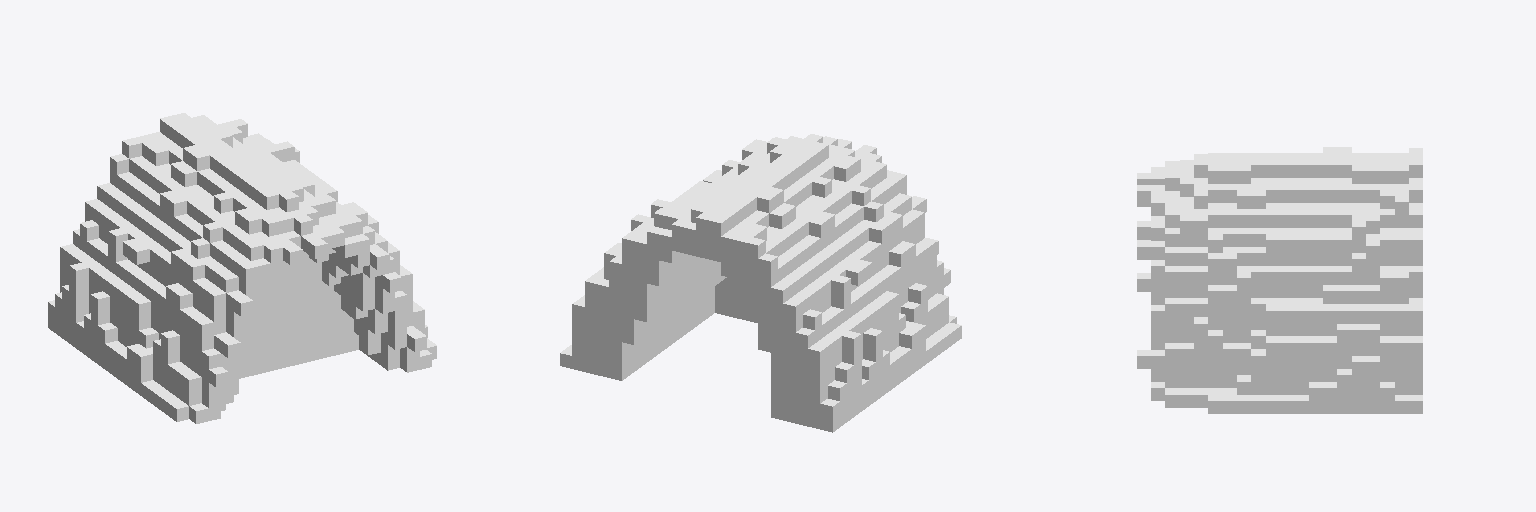
The model's file is Cave.obj.
The picture shows the model from 3 angles: view 1: azimuth 30°, elevation 25°; view 2: azimuth 150°, elevation 25°; view 3: azimuth 270°, elevation 25°; orthographic projection.
Visible parts, largest first — view 1: Cave; view 2: Cave; view 3: Cave.
Boxes of the visible parts, <box> form: Cave: <box>48,113,436,423</box>; Cave: <box>560,134,961,432</box>; Cave: <box>1137,147,1422,413</box>.
Size of the model in its own units: 22 by 14 by 20.